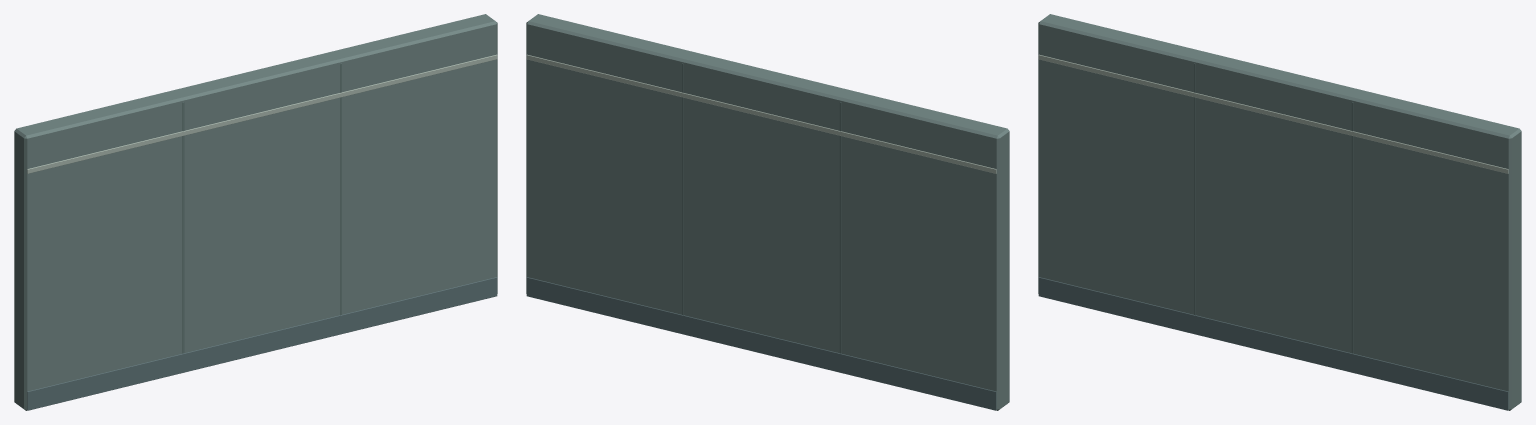
Rendered from partition.glb.
3 renders of one model, left to right at view 1: azimuth 30°, elevation 25°; view 2: azimuth 150°, elevation 25°; view 3: azimuth 330°, elevation 25°, orthographic.
Visible parts, largest first — view 1: Felt, Kick1, Strip1, Seam1_-0.45, Seam1_0.45; view 2: Felt, Kick-1, Strip-1, Seam-1_-0.45, Seam-1_0.45; view 3: Felt, Kick1, Strip1, Seam1_0.45, Seam1_-0.45.
Part boxes in pixels (x1,y1,x2,y2): Felt: [14, 14, 497, 410]; Kick1: [27, 277, 497, 410]; Strip1: [27, 54, 497, 173]; Seam1_-0.45: [182, 102, 184, 353]; Seam1_0.45: [340, 63, 341, 315]; Felt: [526, 14, 1009, 410]; Kick-1: [526, 277, 996, 410]; Strip-1: [526, 54, 996, 173]; Seam-1_-0.45: [839, 102, 841, 353]; Seam-1_0.45: [682, 63, 683, 315]; Felt: [1038, 14, 1521, 410]; Kick1: [1038, 277, 1508, 410]; Strip1: [1038, 54, 1508, 173]; Seam1_0.45: [1351, 102, 1353, 353]; Seam1_-0.45: [1194, 63, 1195, 315].
Bounding box in the file's own units: 2.7 × 1.5 × 0.129.
